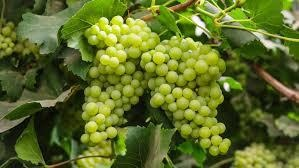apple: (80, 15, 232, 157)
apricot: (79, 15, 232, 157)
cherry: (80, 15, 232, 156)
grapes: (79, 15, 232, 159)
kiwi: (80, 15, 232, 156)
melon: (77, 14, 232, 166)
